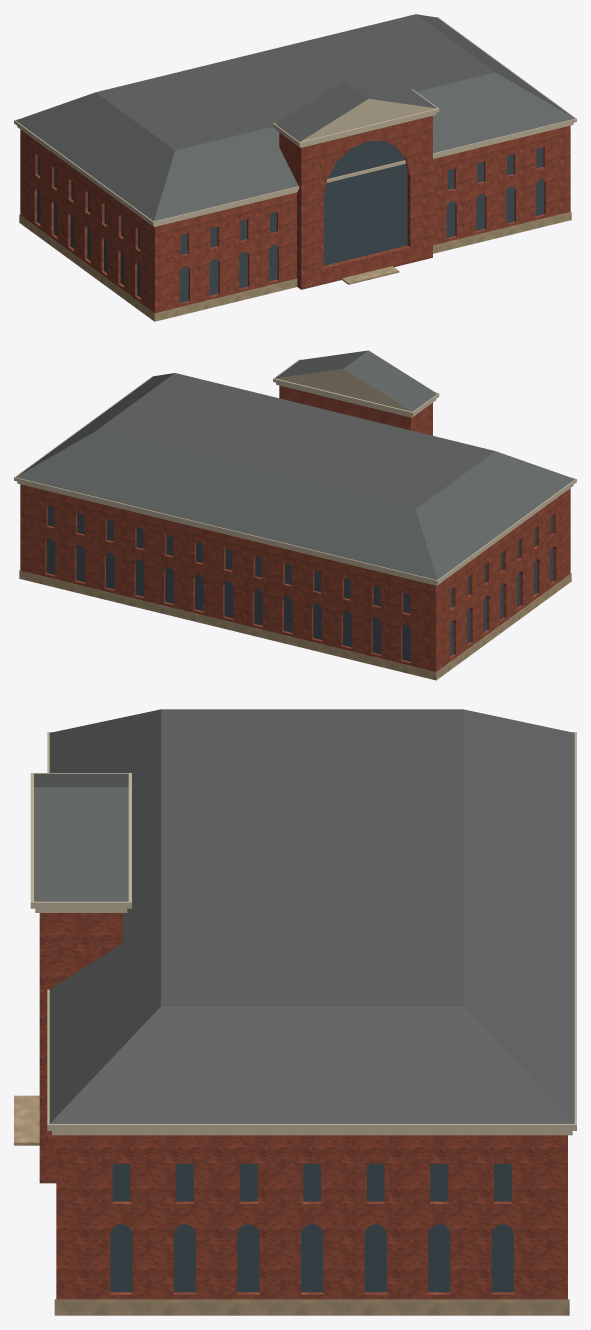
The model's file is union_station.glb.
3 renders of one model, top to bottom at view 1: azimuth 30°, elevation 25°; view 2: azimuth 150°, elevation 25°; view 3: azimuth 270°, elevation 25°, orthographic. The views are drawn at different scales.
Visible parts, largest first — view 1: union_station; view 2: union_station; view 3: union_station.
Part boxes in pixels (left/top/right/bottom): union_station: left=14, top=14, right=576, bottom=321; union_station: left=14, top=350, right=576, bottom=680; union_station: left=14, top=709, right=576, bottom=1315.
Bounding box in the file's own units: 83.6 × 33.2 × 50.6.
3 materials, 3 textured.
